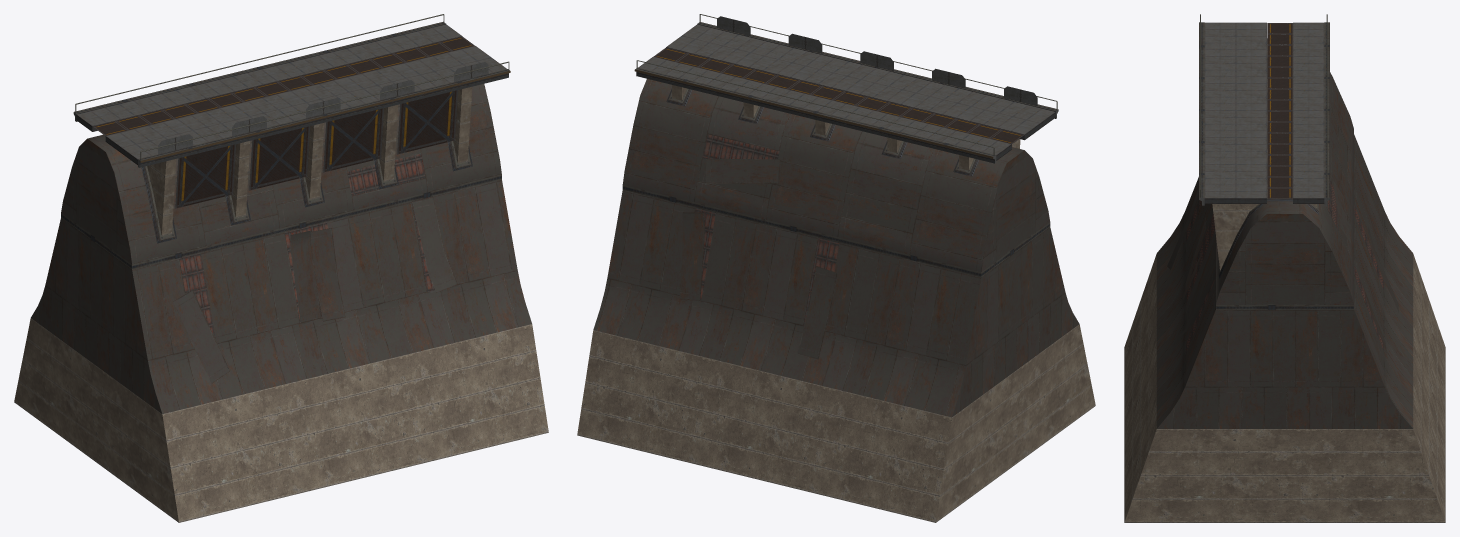
File: Wall1A_L3.fbx
The picture shows the model from 3 angles, left to right: view 1: azimuth 30°, elevation 25°; view 2: azimuth 150°, elevation 25°; view 3: azimuth 270°, elevation 25°; orthographic projection. The views are drawn at different scales.
Parts seen in each view (by area): view 1: polySurface910; view 2: polySurface910; view 3: polySurface910.
Boxes of the visible parts, x1,y1,x2,y2 form: polySurface910: (14, 14, 548, 522); polySurface910: (577, 14, 1095, 522); polySurface910: (1124, 14, 1445, 522).
Size of the model in its own units: 4000 by 3585 by 3090.
